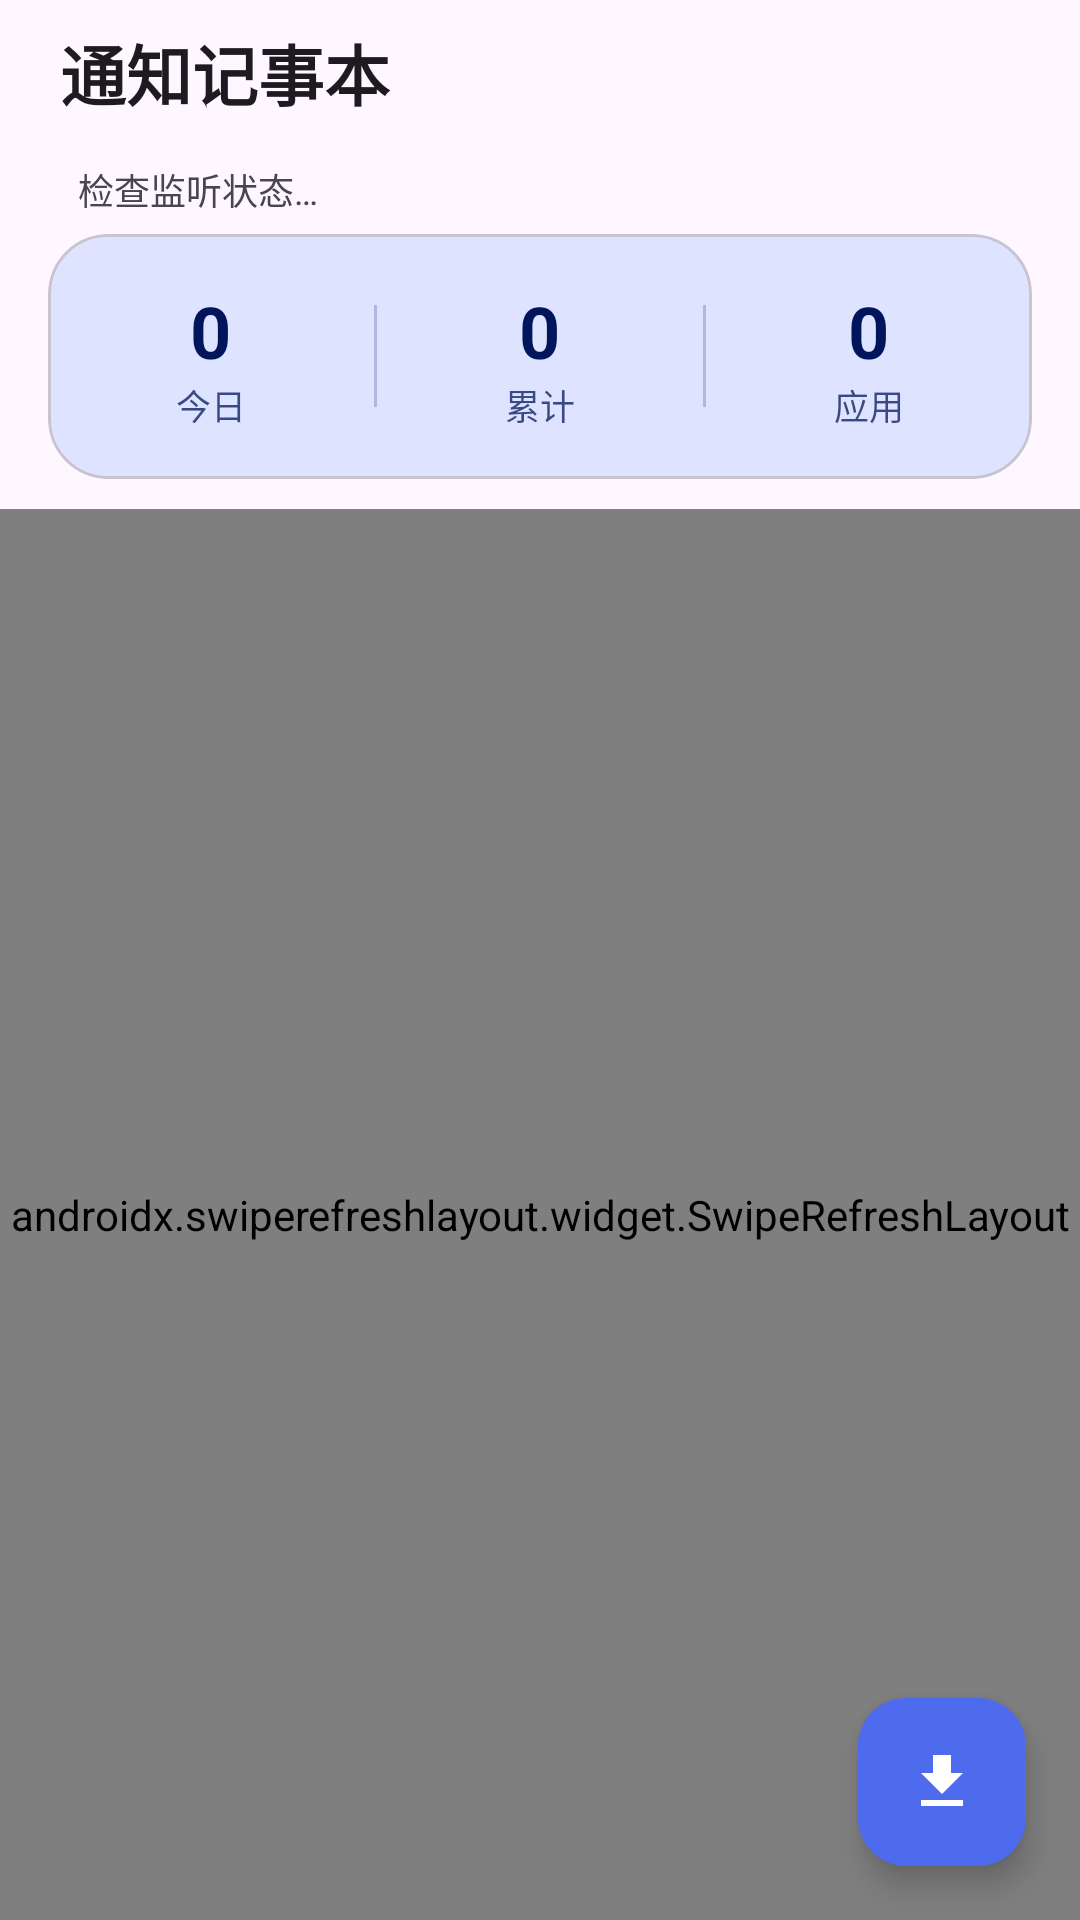

Where to tap for icons on this 1080 x 1920 app screen, as [x,y]:
导出记录: [942,1782]
